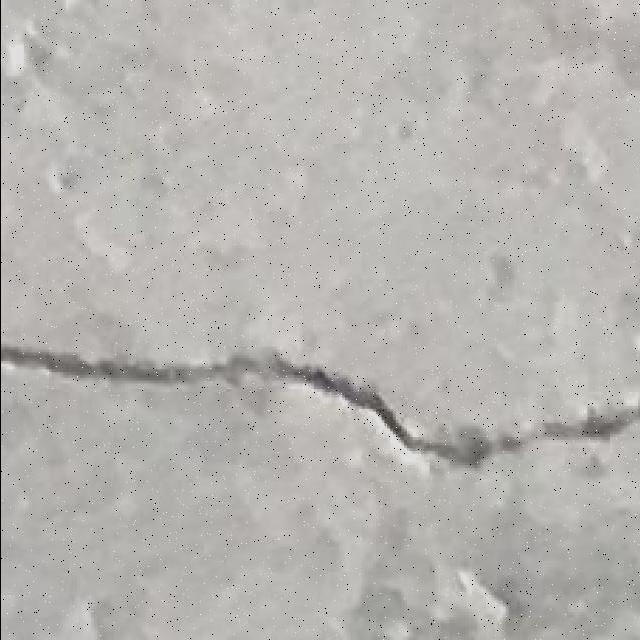crack: (2, 344, 636, 467), (2, 343, 244, 386)
